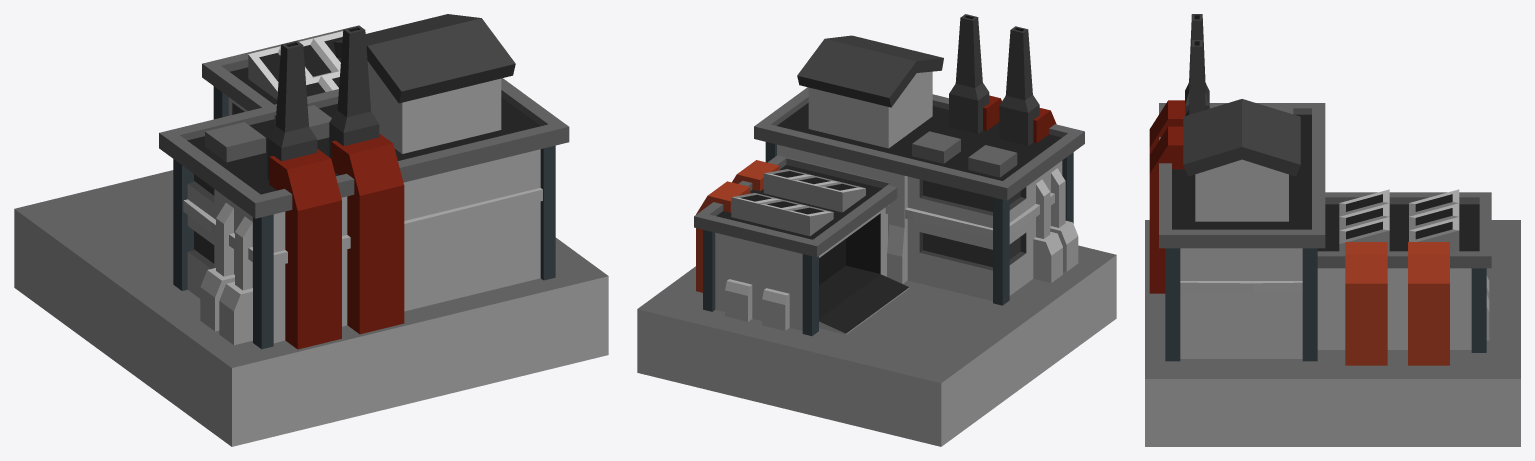
The model's file is Factory.fbx.
3 views of the same model, side by side, from view 1: azimuth 30°, elevation 25°; view 2: azimuth 150°, elevation 25°; view 3: azimuth 270°, elevation 25° (orthographic). The views are drawn at different scales.
Parts seen in each view (by area): view 1: Cube.001; view 2: Cube.001; view 3: Cube.001.
Boxes of the visible parts, x1,y1,x2,y2 form: Cube.001: (14, 14, 608, 446); Cube.001: (637, 14, 1116, 446); Cube.001: (1145, 14, 1520, 446).
Bounding box in the file's own units: 100 × 90.77 × 100.
